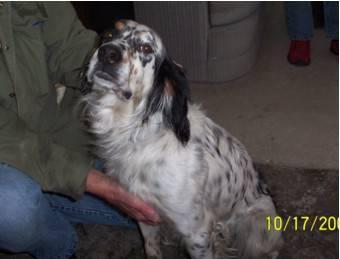dog: (82, 19, 284, 259)
